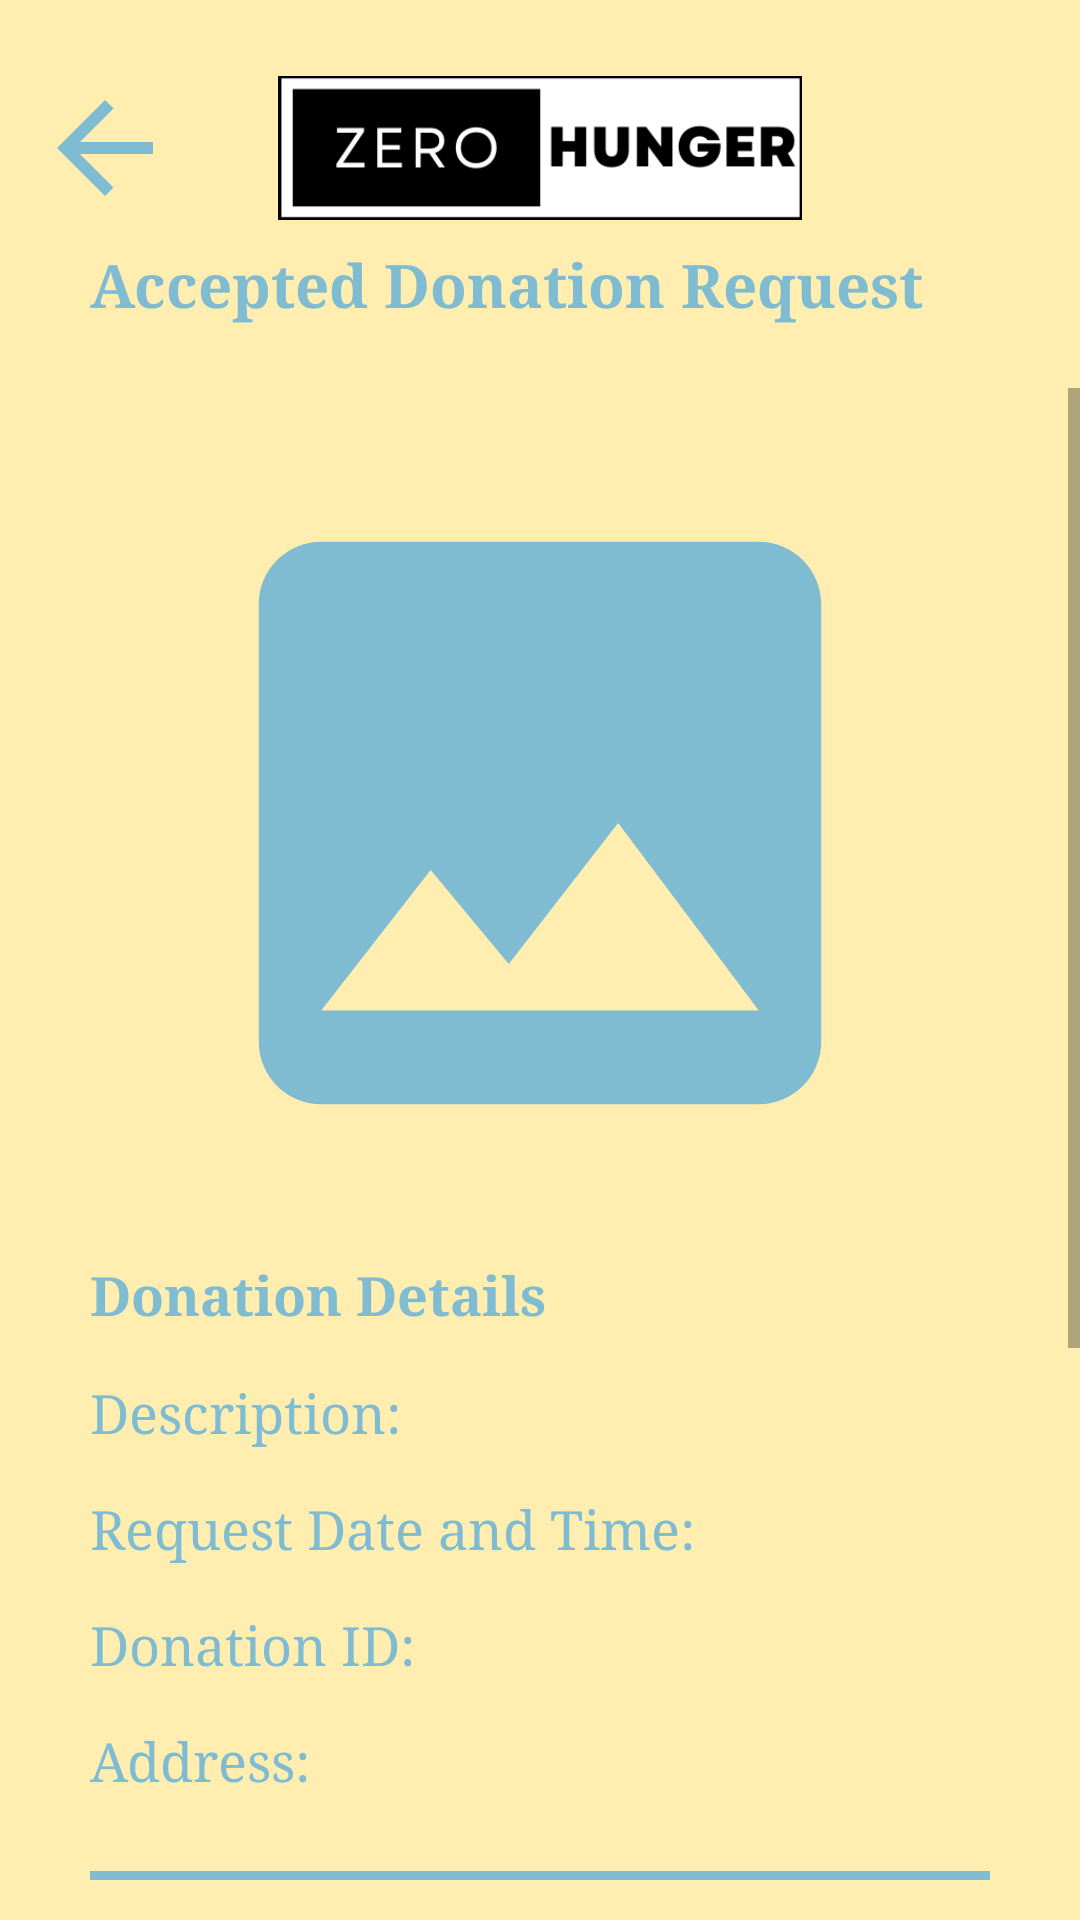

Point at icon controls on the screen. Image size 1080px x 1920px, points as (x=x, y=y).
back: (x=105, y=148)
